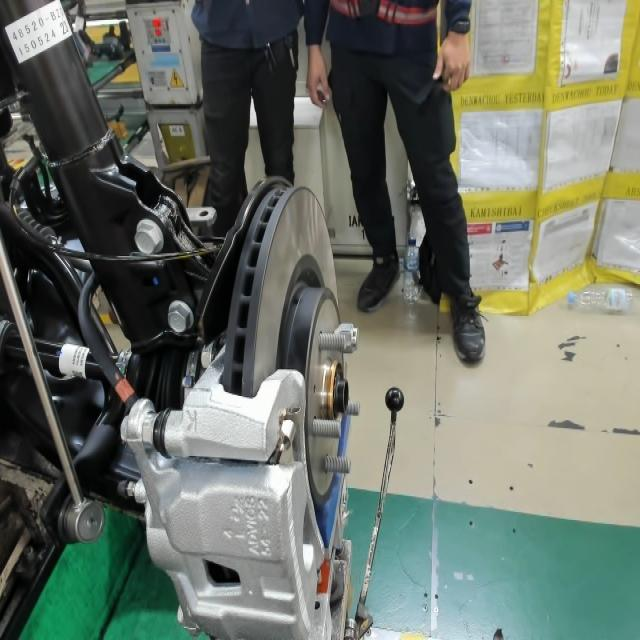Absorber LH-23: (55, 18, 74, 39)
Disc-HT: (276, 248, 350, 505)
Drive Shaft-PT: (54, 340, 91, 382)
